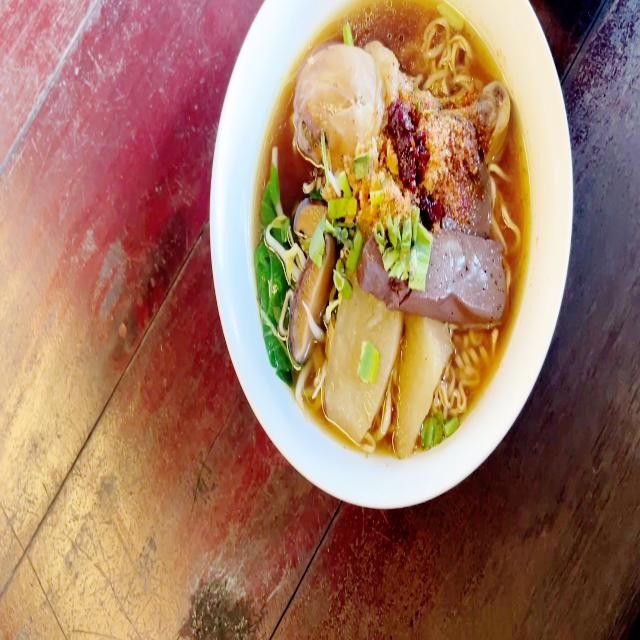boiled_chicken_blood_jelly: (426, 226, 508, 324), (362, 234, 388, 295), (476, 161, 492, 236)
chicken_drumstick: (294, 40, 512, 166)
daikon_radish: (337, 311, 446, 441)
noodle: (260, 14, 525, 420)
